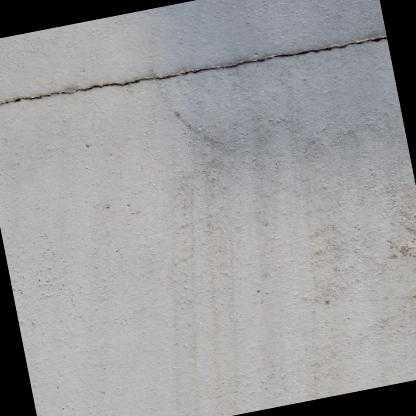crack: (0, 33, 387, 104)
